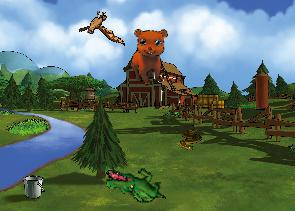bear: (126, 24, 176, 88)
crocodile: (104, 165, 166, 205)
eagle: (78, 10, 125, 46)
